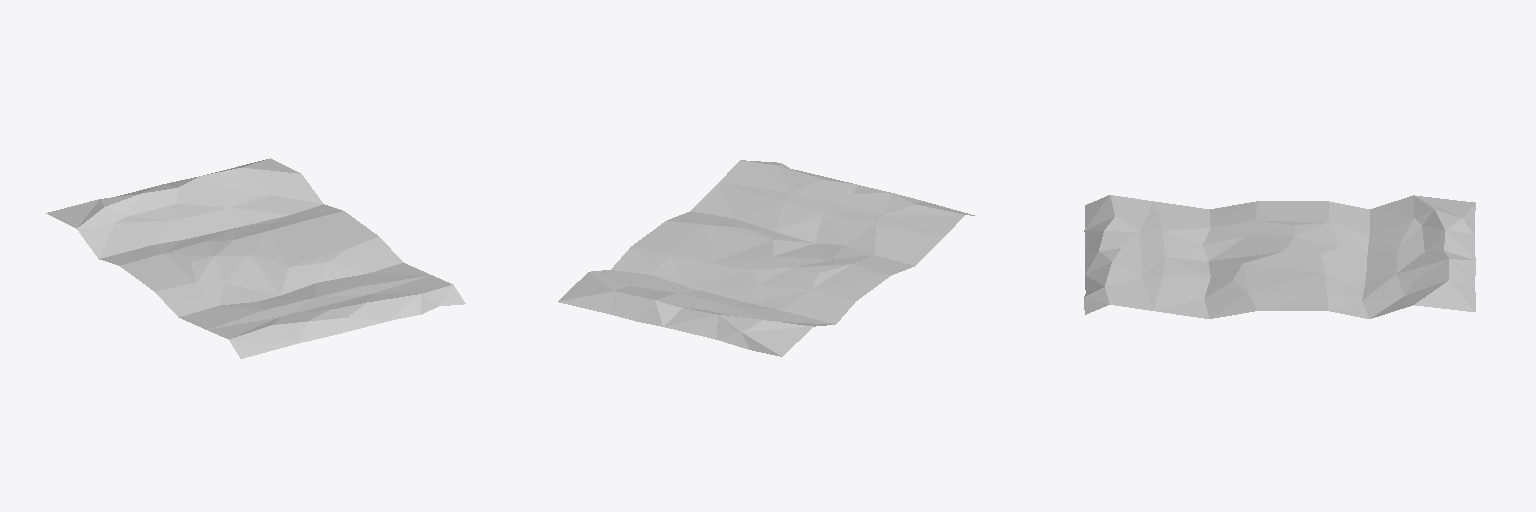
The model's file is Dirt_Road_Type1.obj.
3 renders of one model, left to right at view 1: azimuth 30°, elevation 25°; view 2: azimuth 150°, elevation 25°; view 3: azimuth 270°, elevation 25°, orthographic.
Parts seen in each view (by area): view 1: Dirt_Road_Type1_Plane.007; view 2: Dirt_Road_Type1_Plane.007; view 3: Dirt_Road_Type1_Plane.007.
Boxes of the visible parts, x1,y1,x2,y2 form: Dirt_Road_Type1_Plane.007: [46, 158, 465, 358]; Dirt_Road_Type1_Plane.007: [558, 160, 974, 356]; Dirt_Road_Type1_Plane.007: [1084, 195, 1475, 318].
Size of the model in its own units: 4 by 0.3689 by 6.04.